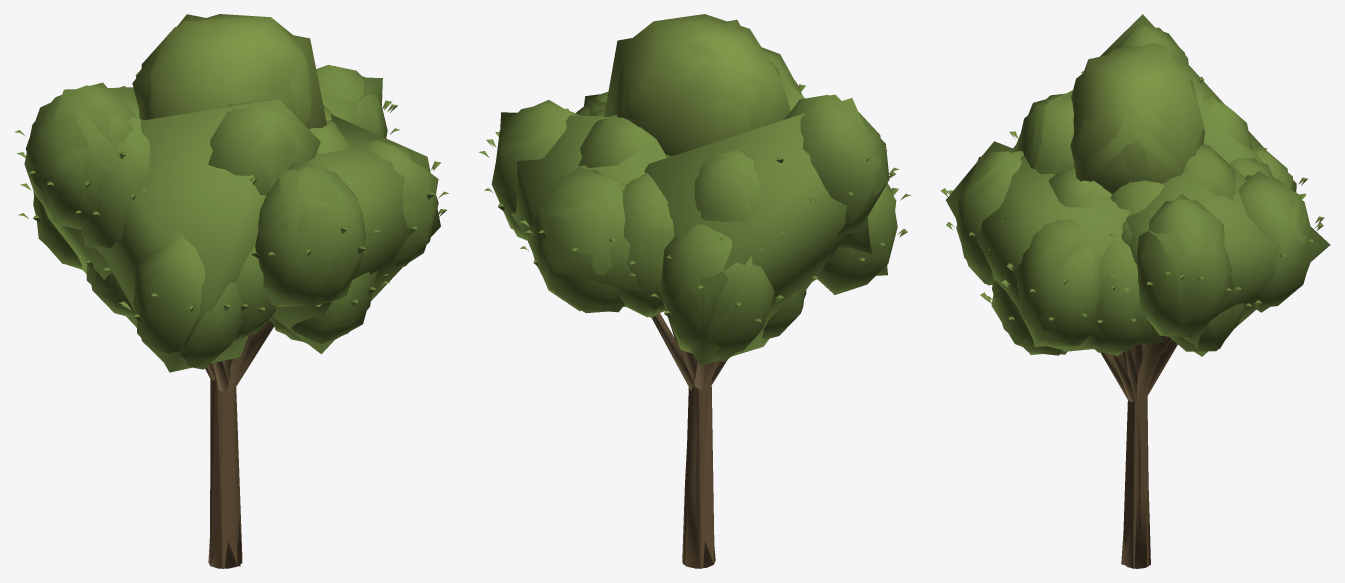
Rendered from Broadleaf.baseline.glb.
3 renders of one model, left to right at view 1: azimuth 30°, elevation 25°; view 2: azimuth 150°, elevation 25°; view 3: azimuth 270°, elevation 25°, orthographic. The views are drawn at different scales.
Visible parts, largest first — view 1: Broadleaf_L0, Broadleaf_L2, Broadleaf_L1; view 2: Broadleaf_L0, Broadleaf_L2, Broadleaf_L1; view 3: Broadleaf_L0, Broadleaf_L2, Broadleaf_L1.
Part boxes in pixels (box(x1,y1,x2,y2)): Broadleaf_L0: box(14, 14, 449, 568); Broadleaf_L2: box(32, 14, 440, 568); Broadleaf_L1: box(25, 19, 446, 566); Broadleaf_L0: box(478, 14, 911, 568); Broadleaf_L2: box(500, 19, 888, 568); Broadleaf_L1: box(487, 14, 907, 566); Broadleaf_L0: box(940, 26, 1324, 568); Broadleaf_L2: box(946, 14, 1330, 568); Broadleaf_L1: box(941, 24, 1323, 568).
Bounding box in the file's own units: 6 × 8 × 5.58.
